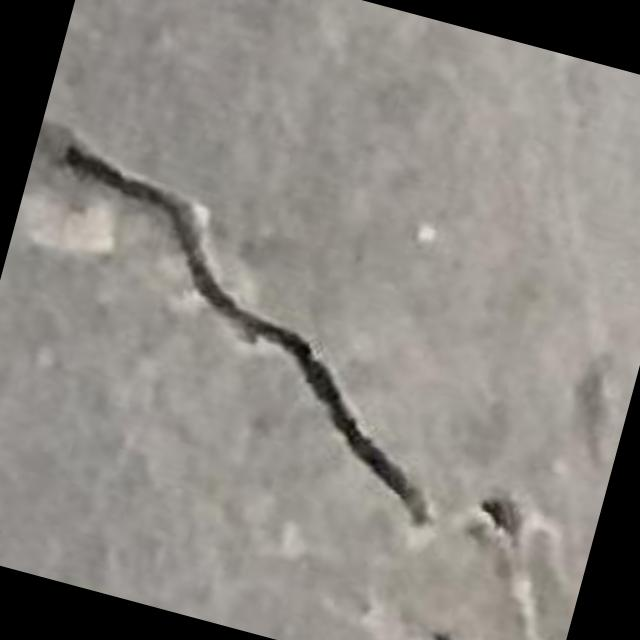crack: (36, 120, 436, 527)
